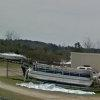Boat: (22, 56, 94, 93)
